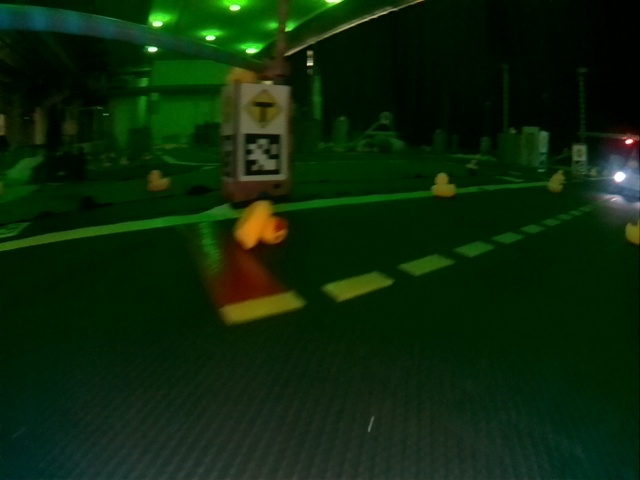Duckie: (235, 200, 286, 249), (431, 173, 456, 197), (147, 172, 168, 191), (626, 220, 636, 243), (548, 177, 563, 192)
Intersection sign: (241, 84, 286, 130)
QR code: (243, 138, 284, 180)
